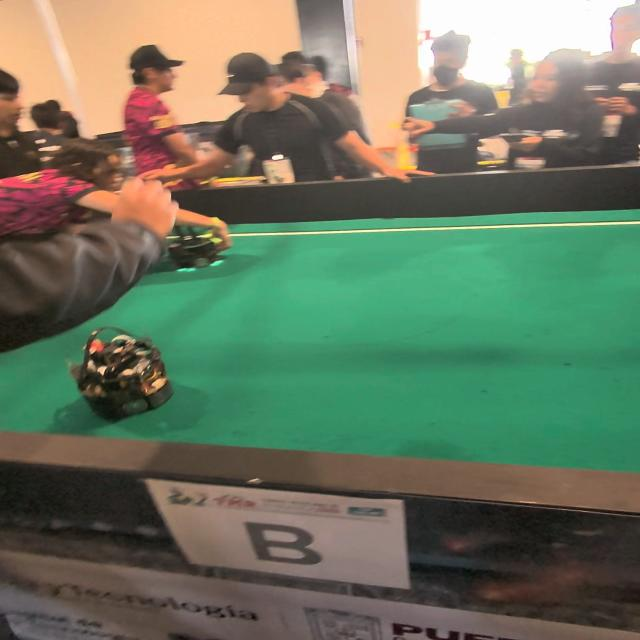Robot: (62, 324, 172, 424), (166, 217, 238, 284)
